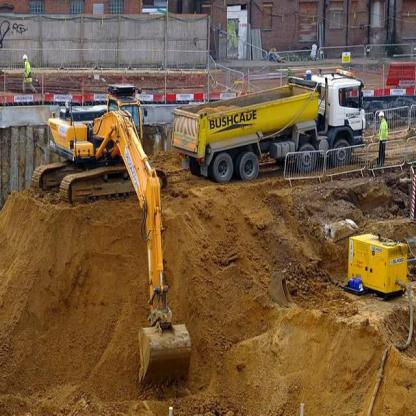excavator: (32, 91, 194, 397)
